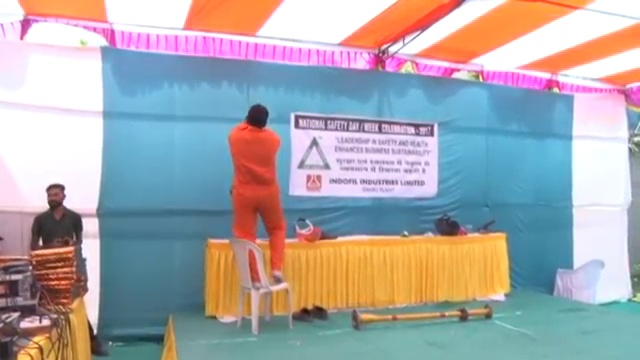helmet_off: (247, 101, 269, 131), (45, 181, 66, 209)
person: (223, 99, 290, 287), (29, 182, 85, 250)
